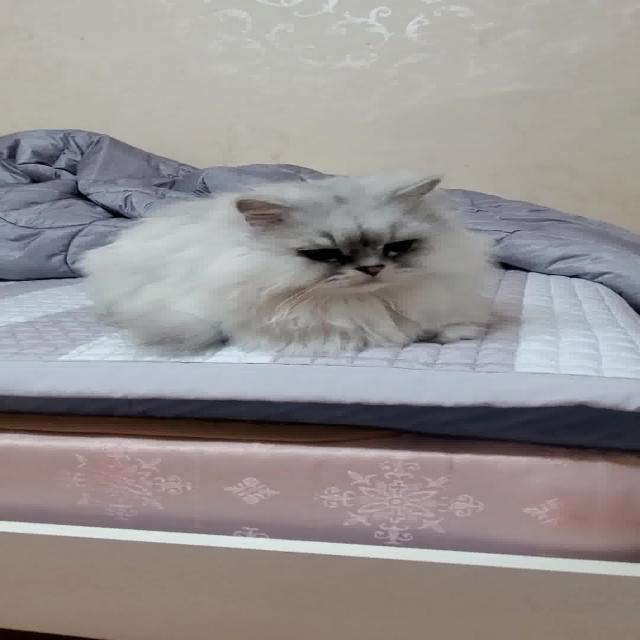cat: (72, 164, 514, 360)
